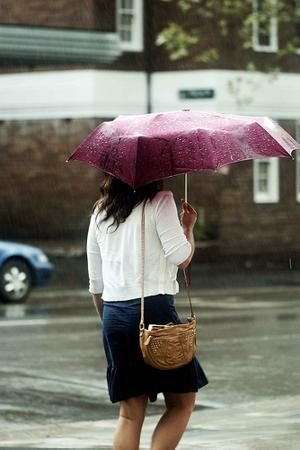person: (87, 172, 209, 450)
